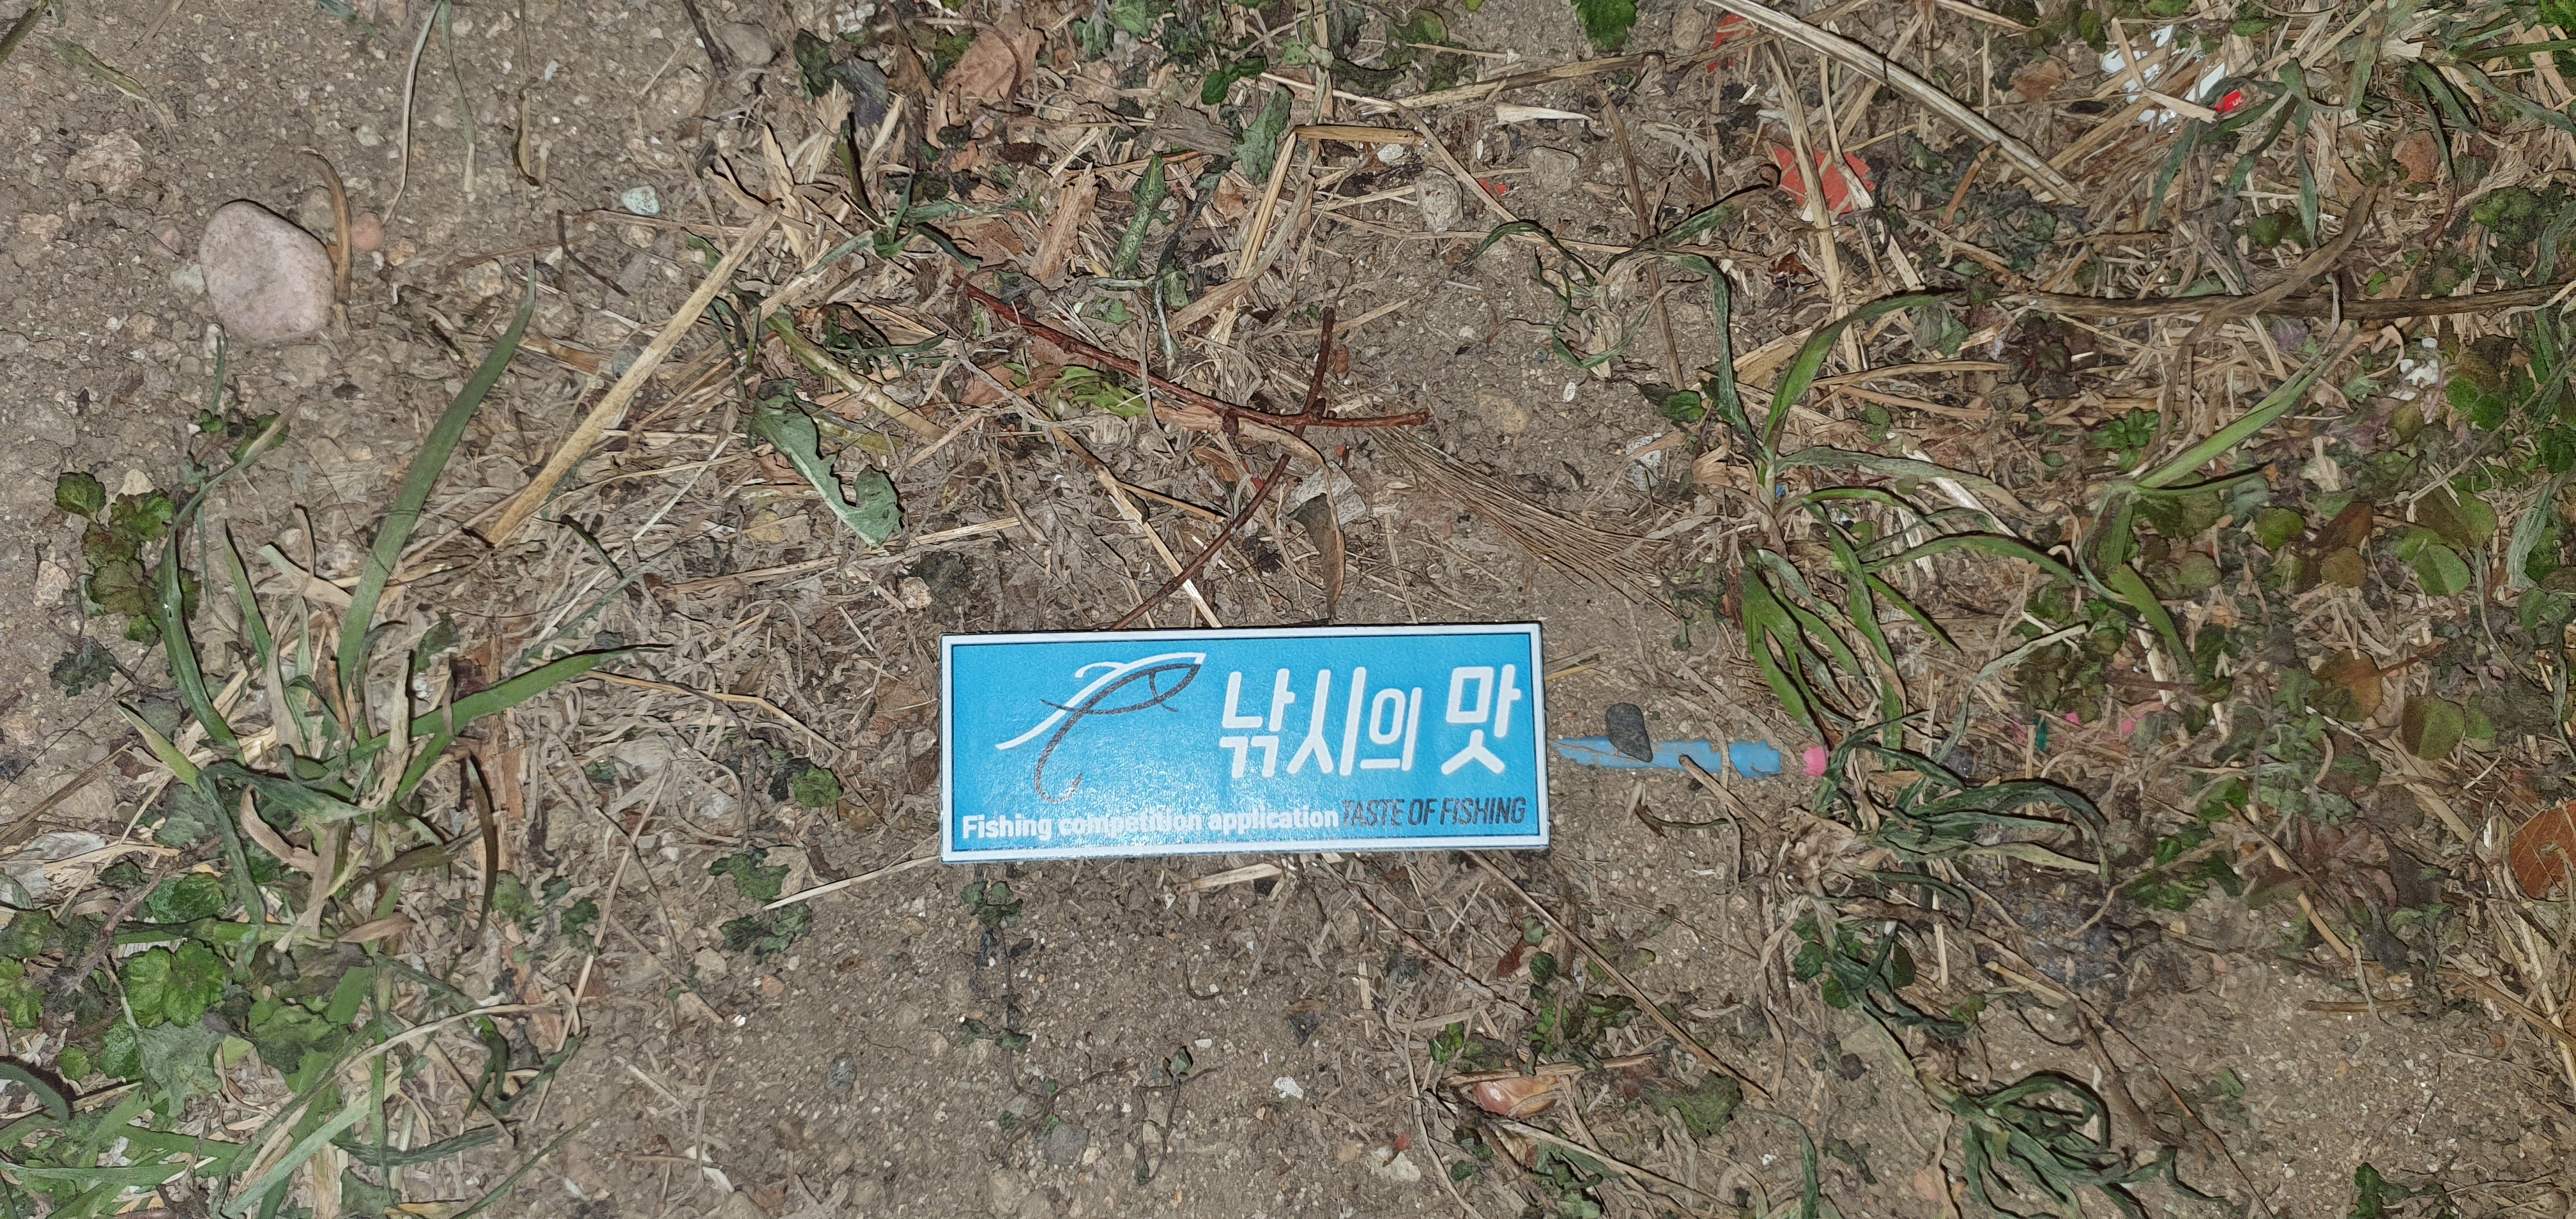tag: (940, 632, 1548, 849)
